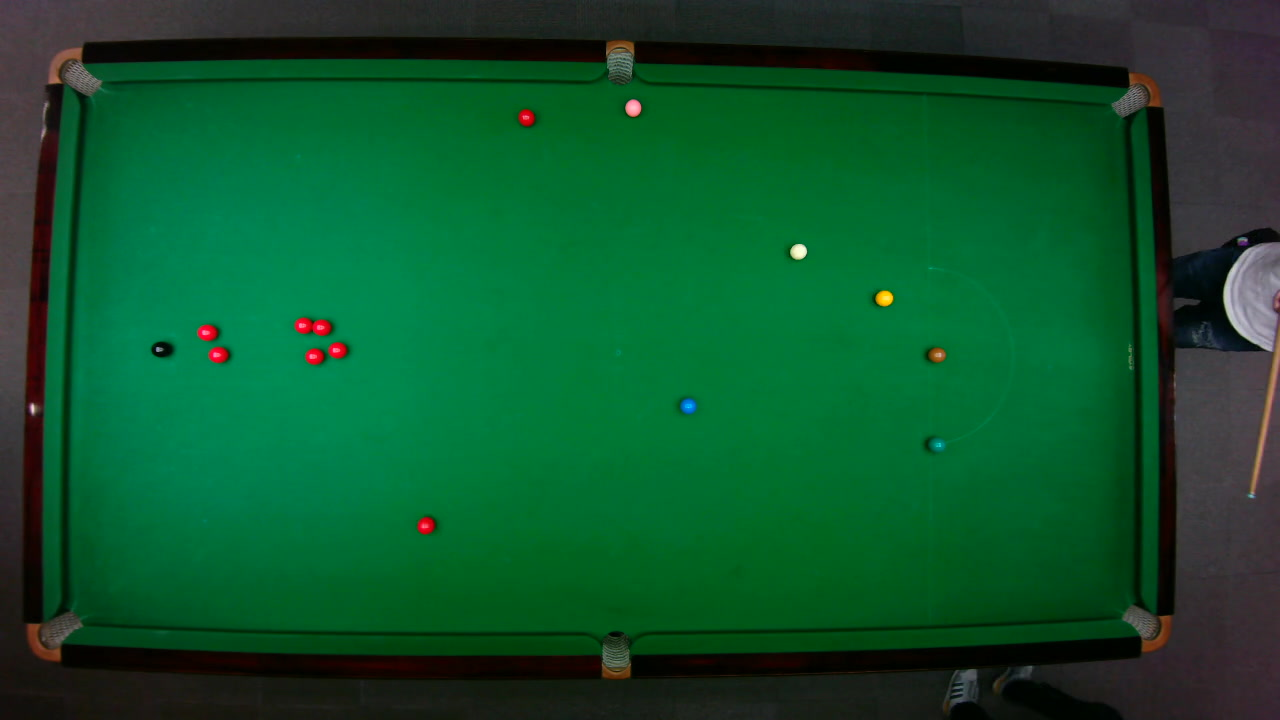bag: (25, 609, 83, 662), (45, 46, 102, 96), (1119, 603, 1172, 652), (1108, 71, 1161, 118), (600, 629, 630, 680), (605, 38, 633, 85)
black: (149, 339, 171, 357)
blue: (678, 397, 696, 414)
brown: (926, 346, 946, 362)
cue: (1246, 327, 1279, 500)
green: (926, 435, 946, 452)
pink: (623, 97, 642, 117)
red: (195, 322, 218, 341), (415, 515, 436, 534), (311, 318, 333, 336), (207, 345, 229, 363), (303, 347, 324, 365), (293, 316, 314, 334), (516, 108, 535, 127), (327, 341, 347, 358)
white: (788, 242, 807, 260)
yellow: (873, 288, 894, 307)
zone: (926, 265, 1013, 445)
